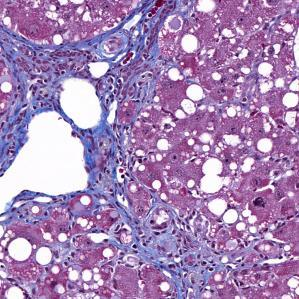fibrosis: (79, 130, 146, 222), (0, 32, 69, 114), (99, 21, 156, 104), (159, 233, 221, 288)
